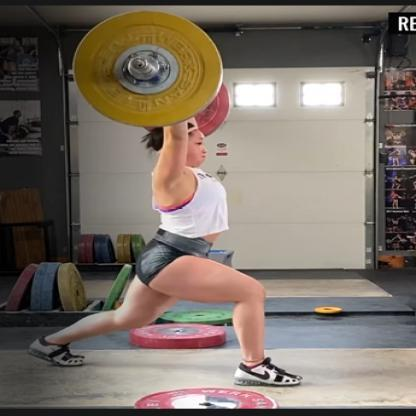barbell: (71, 7, 232, 136)
